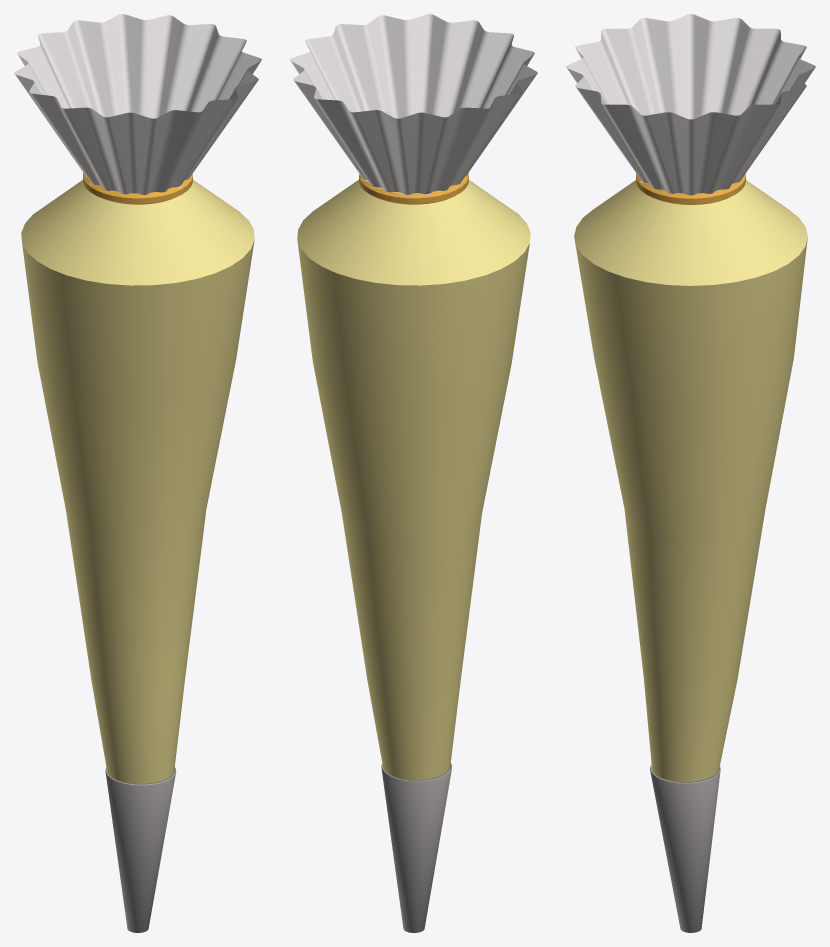
File: cheese.fbx
The picture shows the model from 3 angles, left to right: view 1: azimuth 30°, elevation 25°; view 2: azimuth 150°, elevation 25°; view 3: azimuth 270°, elevation 25°; orthographic projection.
Parts seen in each view (by area): view 1: Cylinder.001, Cylinder.002; view 2: Cylinder.001, Cylinder.002; view 3: Cylinder.001, Cylinder.002.
Part boxes in pixels (x1,y1,x2,y2): Cylinder.001: (14,14,261,783); Cylinder.002: (105,767,176,932); Cylinder.001: (290,14,537,780); Cylinder.002: (381,763,452,932); Cylinder.001: (566,14,815,782); Cylinder.002: (650,765,720,932).
Bounding box in the file's own units: 111 × 421 × 111.
Materials: 1 (1 with a texture image).
